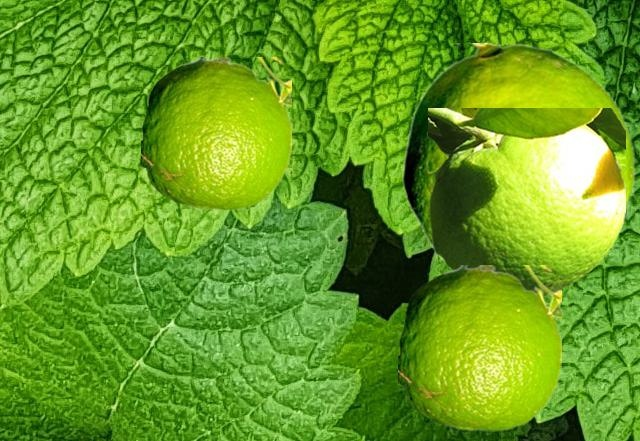dalandan: (402, 43, 634, 264), (428, 108, 624, 295), (398, 265, 560, 430), (141, 57, 290, 209)
